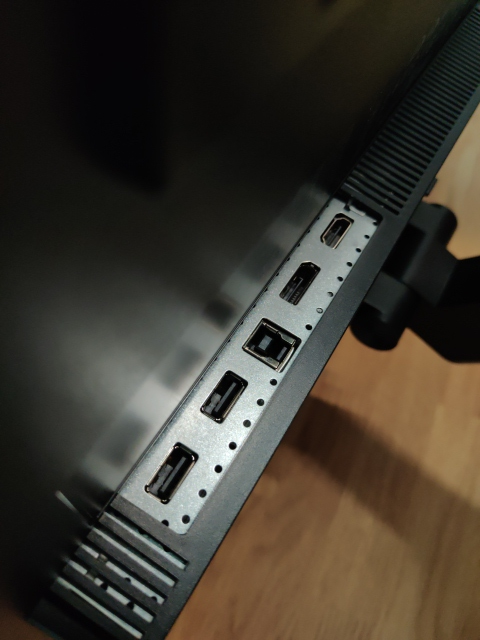DisplayPort: (280, 258, 321, 306)
HDMI: (322, 213, 353, 250)
USB: (145, 443, 198, 504), (200, 371, 248, 424)
